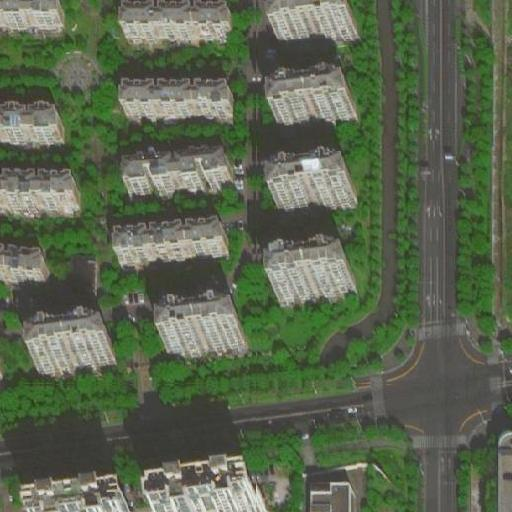building: (122, 149, 232, 186), (116, 220, 226, 255), (30, 335, 114, 379), (275, 175, 356, 220), (164, 320, 246, 363), (124, 1, 234, 33), (271, 270, 354, 312), (124, 81, 230, 110), (276, 93, 357, 130), (272, 5, 353, 42), (148, 488, 264, 511), (1, 174, 78, 206), (485, 432, 512, 512), (1, 105, 62, 136), (65, 254, 95, 307), (305, 477, 350, 512)
